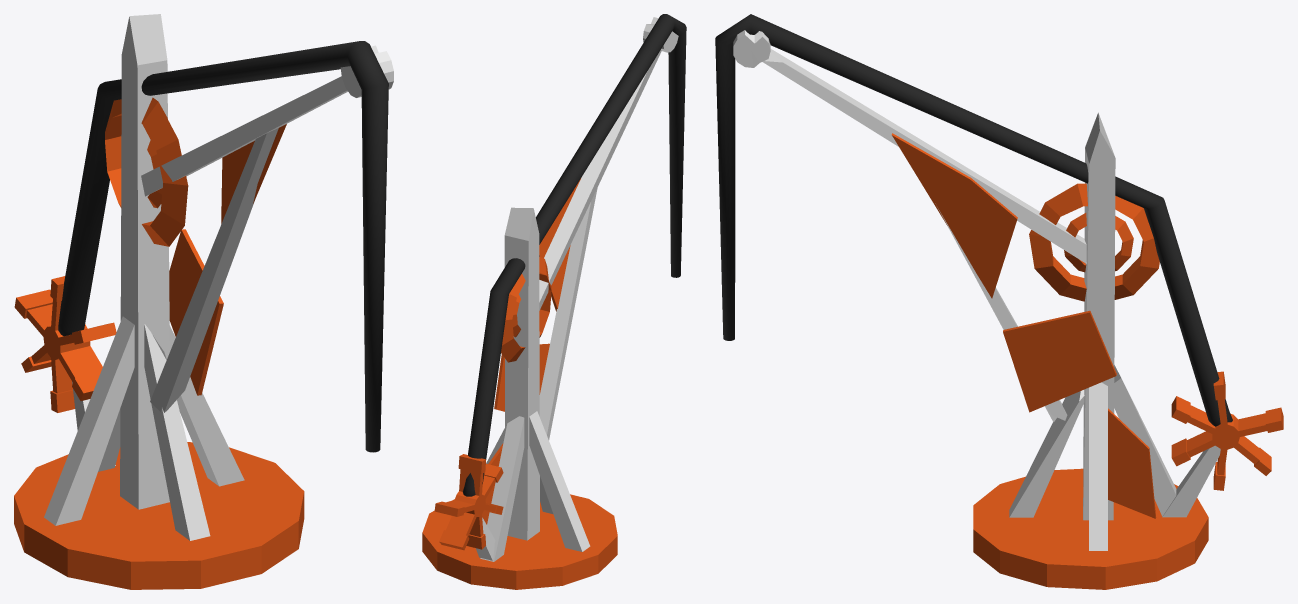
File: Crane.fbx
The picture shows the model from 3 angles, left to right: view 1: azimuth 30°, elevation 25°; view 2: azimuth 150°, elevation 25°; view 3: azimuth 270°, elevation 25°; orthographic projection. The views are drawn at different scales.
Visible parts, largest first — view 1: Cylinder.002, Cylinder.003, Cube.003, Cube.007, Cube.005, Cylinder, Cube.004, Torus, Cube.008, Plane, Cube.009, Plane.002 (+2 smaller); view 2: Cylinder.003, Cylinder.002, Cube.003, Cube.008, Cube.007, Cylinder, Cube.005, Cube.010, Torus, Plane.002, Plane, Cube.006 (+1 smaller); view 3: Cylinder.003, Cylinder.002, Plane, Cube.003, Plane.002, Cube.008, Torus, Cylinder, Plane.001, Cube.009, Cube.004, Cube.010 (+4 smaller).
Part boxes in pixels (box(x1,y1,x2,y2)): Cylinder.002: box(14, 442, 304, 589); Cylinder.003: box(58, 41, 388, 452); Cube.003: box(120, 14, 169, 509); Cube.007: box(150, 128, 278, 412); Cube.005: box(44, 316, 134, 525); Cylinder: box(14, 276, 116, 412); Cube.004: box(144, 324, 210, 540); Torus: box(105, 97, 188, 246); Cube.008: box(141, 76, 347, 196); Plane: box(169, 229, 223, 395); Cube.009: box(169, 325, 244, 486); Plane.002: box(221, 124, 286, 223); Cylinder.003: box(463, 14, 686, 496); Cylinder.002: box(422, 494, 617, 589); Cube.003: box(504, 207, 539, 540); Cube.008: box(539, 50, 661, 310); Cube.007: box(539, 188, 597, 439); Cylinder: box(434, 454, 503, 550); Cube.005: box(529, 411, 590, 551); Cube.010: box(480, 416, 524, 561); Torus: box(501, 256, 551, 362); Plane.002: box(539, 178, 580, 311); Plane: box(494, 343, 549, 411); Cube.006: box(475, 517, 495, 560); Cylinder.003: box(715, 14, 1232, 426); Cylinder.002: box(973, 468, 1208, 589); Plane: box(1003, 310, 1116, 412); Cube.003: box(1083, 112, 1115, 520); Plane.002: box(891, 133, 1017, 298); Cube.008: box(762, 49, 1086, 263); Torus: box(1029, 183, 1159, 301); Cylinder: box(1171, 371, 1283, 490); Plane.001: box(1108, 408, 1156, 518); Cube.009: box(1089, 382, 1107, 550); Cube.004: box(1009, 390, 1084, 517); Cube.010: box(1114, 365, 1186, 517).
Size of the model in its own units: 617 by 1509 by 1490.
